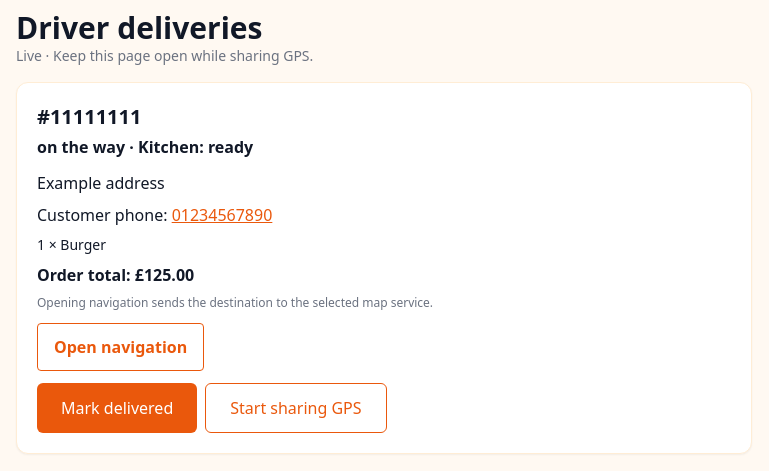
Scenario: driver GPS › shares GPS only after the driver explicitly starts, and stops on cancellation
Click the button "Start sharing GPS". click: (296,408)
box: [205, 383, 387, 433]
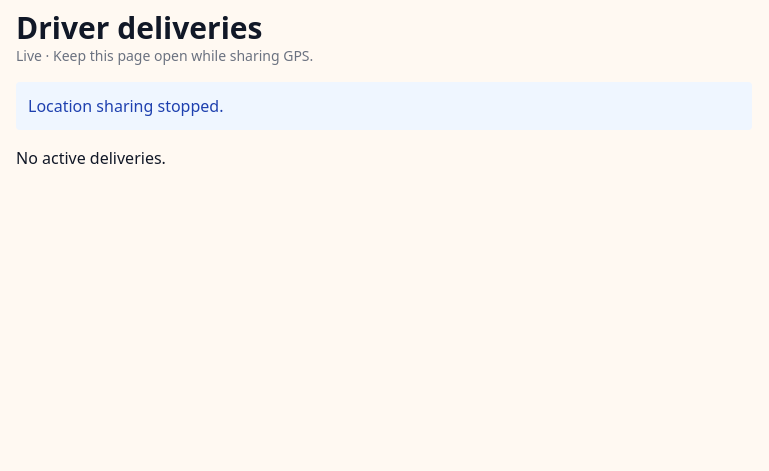
Check: the text "Location sharing stopped." is shown, box [16, 82, 752, 130]
